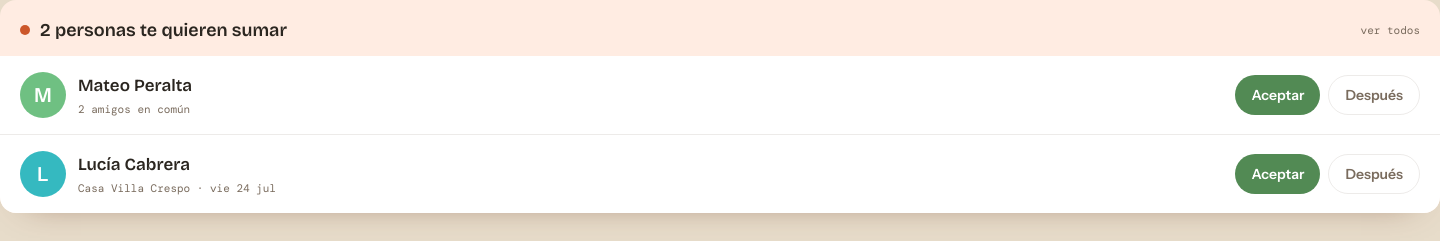
Scenario: JuntadasFriendRequests › keeps the rest of the mounted batch visible after accepting one request
Click the button "Aceptar" in the row of "Mateo Peralta" at (1278, 95), box [1236,75,1320,115]
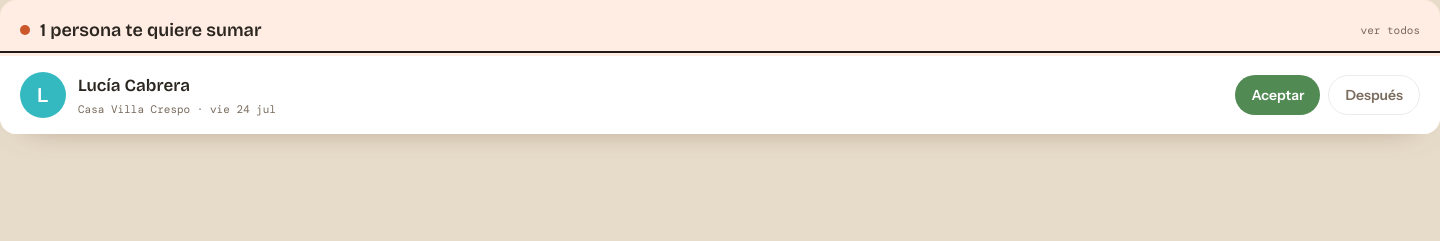
Expected: the text "Lucía Cabrera" is shown, [78,75,190,96]
Result: the text "1 persona te quiere sumar" is shown at [40,16,262,44]
